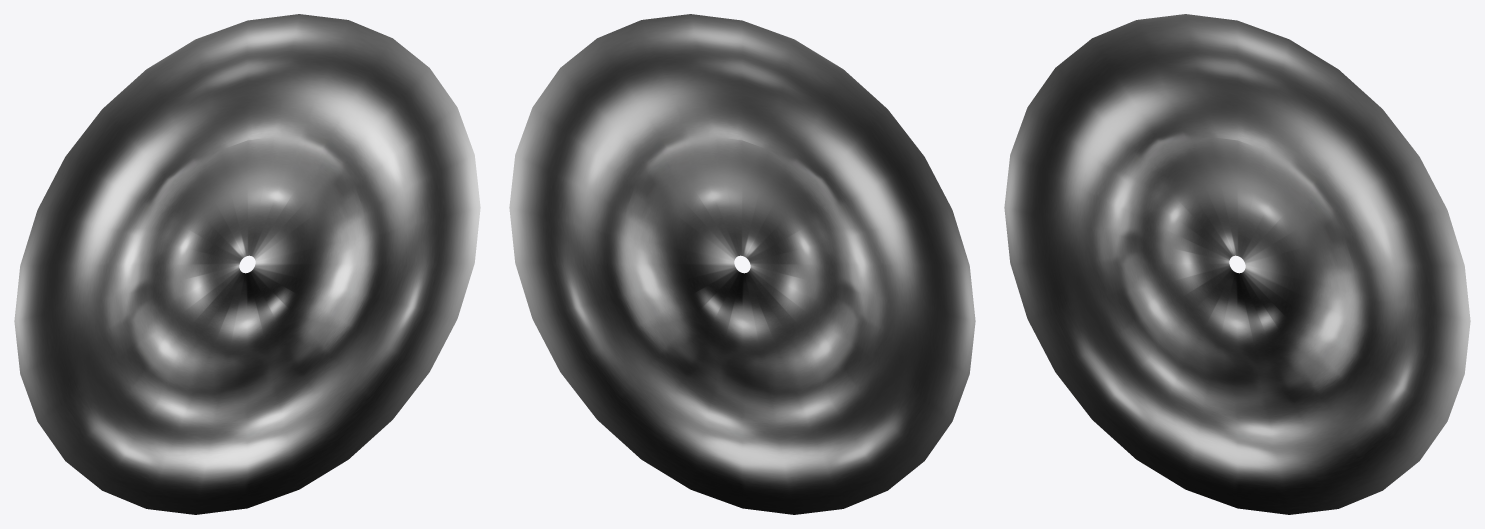
File: fx_c121_proj_hit__fx_common_shape_sphere_02.glb
The picture shows the model from 3 angles, left to right: view 1: azimuth 30°, elevation 25°; view 2: azimuth 150°, elevation 25°; view 3: azimuth 330°, elevation 25°; orthographic projection.
Parts seen in each view (by area): view 1: fx_c121_proj_hit; view 2: fx_c121_proj_hit; view 3: fx_c121_proj_hit.
Part boxes in pixels (left/top/right/bottom): fx_c121_proj_hit: left=14, top=14, right=480, bottom=514; fx_c121_proj_hit: left=509, top=14, right=975, bottom=514; fx_c121_proj_hit: left=1004, top=14, right=1470, bottom=514.
Size of the model in its own units: 0.7184 by 0.7184 by 0.
1 material, 1 textured.
